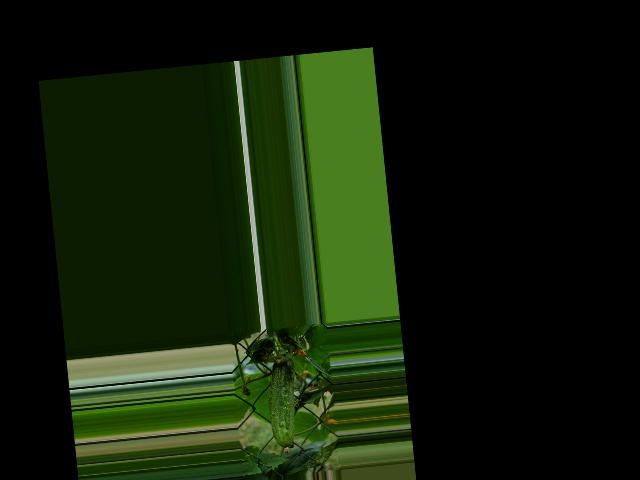cucumber: (264, 353, 301, 454)
